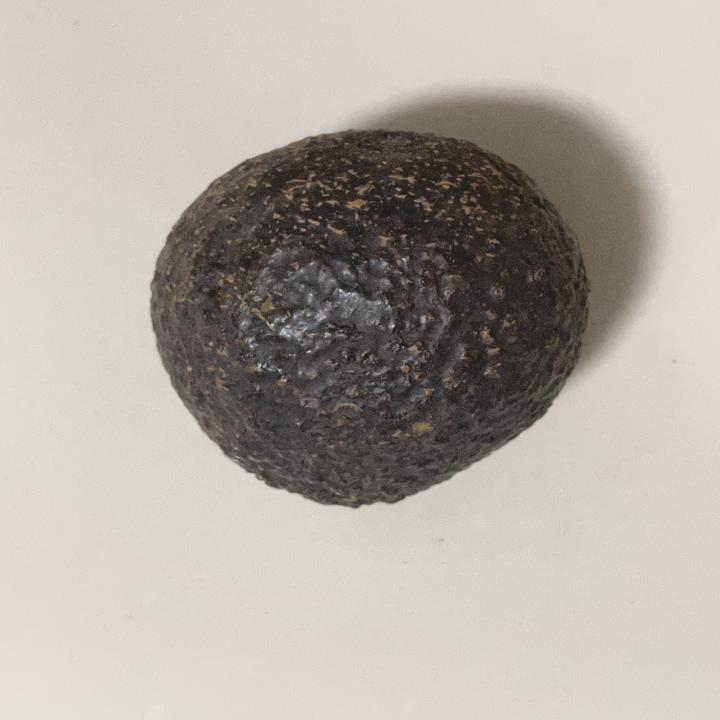Level2: (139, 123, 599, 518)
